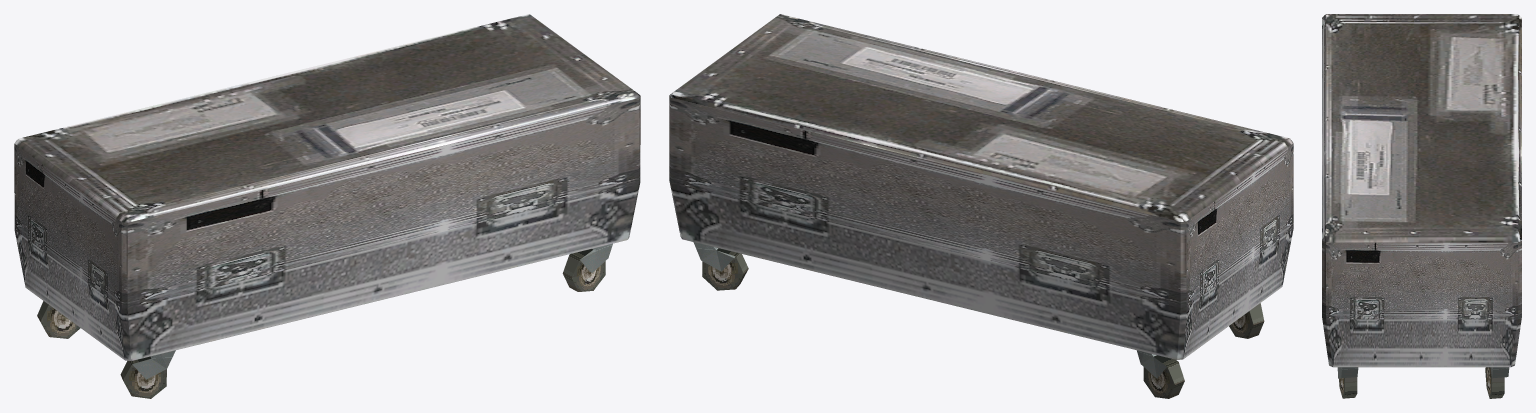
The model's file is missile_02_sfxr.obj.
3 renders of one model, left to right at view 1: azimuth 30°, elevation 25°; view 2: azimuth 150°, elevation 25°; view 3: azimuth 270°, elevation 25°, orthographic. The views are drawn at different scales.
Visible parts, largest first — view 1: missile_02_SFXR; view 2: missile_02_SFXR; view 3: missile_02_SFXR.
Part boxes in pixels (x1,y1,x2,y2): missile_02_SFXR: (14,14,640,398); missile_02_SFXR: (669,14,1293,398); missile_02_SFXR: (1322,14,1521,398).
Size of the model in its own units: 3.16 by 1.15 by 1.18.
3 materials, 3 textured.
